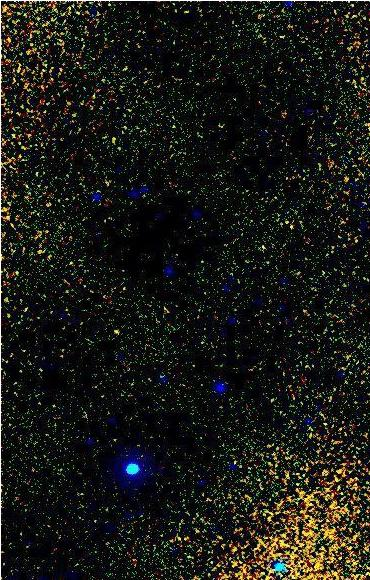star: (98, 318, 128, 348)
